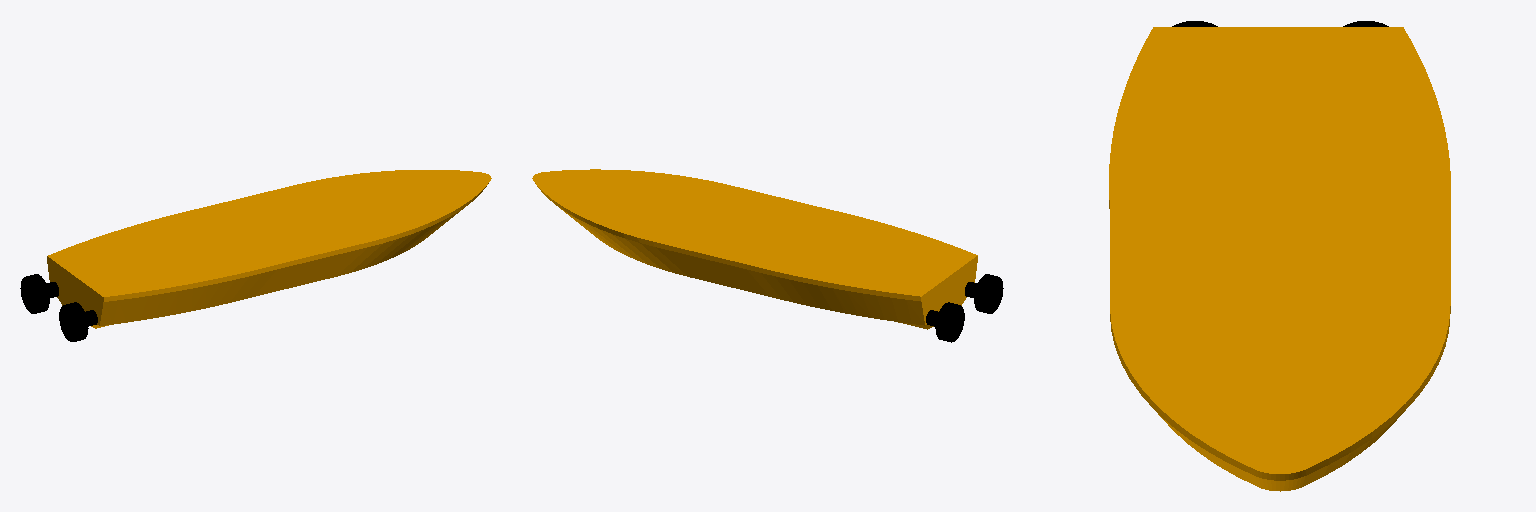
The robot description file, URDF, robot "boat_diff":
<?xml version="1.0" ?>
<!-- =================================================================================== -->
<!-- |    This document was autogenerated by xacro from boat_diff.xacro                | -->
<!-- |    EDITING THIS FILE BY HAND IS NOT RECOMMENDED                                 | -->
<!-- =================================================================================== -->
<robot name="boat_diff" xmlns:xacro="http://www.ros.org/wiki/xacro">
  <link name="base_link">
    <visual>
      <origin rpy="1.57079632679 0 1.57079632679"/>
      <geometry>
        <mesh filename="package://usv_sim/meshes/pt90.stl"/>
      </geometry>
      <material name="blue"/>
    </visual>
    <inertial>
      <origin rpy="0 0 0" xyz="0 0 -0.05"/>
      <mass value="10"/>
      <inertia ixx="0.1" ixy="0.0" ixz="0.0" iyy="1.4" iyz="0.0" izz="1.4"/>
    </inertial>
    <buoyancy>
      <compensation>1.2</compensation>
      <origin xyz="-0.0005 0 0.05"/>
      <limit radius="0.1"/>
      <damping rpy="20 50 50" xyz="20 50 50"/>
    </buoyancy>
  </link>
  <!-- Sensors -->
  <!-- Hokuyo Laser -->
  <joint name="hokuyo_joint" type="fixed">
    <axis xyz="0 1 0"/>
    <origin rpy="0 0 0" xyz="0.6 0 0.1"/>
    <parent link="base_link"/>
    <child link="hokuyo_link"/>
  </joint>
  <link name="hokuyo_link">
    <collision>
      <origin rpy="0 0 0" xyz="0 0 0"/>
      <geometry>
        <box size="0.1 0.1 0.1"/>
      </geometry>
    </collision>
    <visual>
      <origin rpy="0 0 0" xyz="0 0 0"/>
      <geometry>
        <mesh filename="package://usv_sim/meshes/hokuyo.dae"/>
      </geometry>
    </visual>
    <inertial>
      <mass value="1e-5"/>
      <origin rpy="0 0 0" xyz="0 0 0"/>
      <inertia ixx="1e-6" ixy="0" ixz="0" iyy="1e-6" iyz="0" izz="1e-6"/>
    </inertial>
  </link>
  <gazebo reference="hokuyo_link">
    <sensor name="head_hokuyo_sensor" type="gpu_ray">
      <pose>0 0 0 0 0 0</pose>
      <visualize>true</visualize>
      <update_rate>40</update_rate>
      <ray>
        <scan>
          <horizontal>
            <samples>720</samples>
            <resolution>1</resolution>
            <min_angle>-1.570796</min_angle>
            <max_angle>1.570796</max_angle>
          </horizontal>
        </scan>
        <range>
          <min>0.10</min>
          <max>30.0</max>
          <resolution>0.01</resolution>
        </range>
        <noise>
          <type>gaussian</type>
          <!-- Noise parameters based on published spec for Hokuyo laser
        achieving "+-30mm" accuracy at range < 10m.  A mean of 0.0m and
        stddev of 0.01m will put 99.7% of samples within 0.03m of the true
        reading. -->
          <mean>0.0</mean>
          <stddev>0.01</stddev>
        </noise>
      </ray>
      <plugin filename="libgazebo_ros_gpu_laser.so" name="gazebo_ros_head_hokuyo_controller">
        <topicName>scan</topicName>
        <frameName>base_laser</frameName>
      </plugin>
    </sensor>
  </gazebo>
  <!-- Plugin list -->
  <gazebo>
    <plugin filename="libfreefloating_gazebo_control.so" name="freefloating_gazebo_control">
      <switchService>switch</switchService>
      <updateRate>100</updateRate>
      <link>base_link</link>
      <thruster>
        <effort>30</effort>
        <name>fwd_left</name>
      </thruster>
      <thruster>
        <effort>30</effort>
        <name>fwd_right</name>
      </thruster>
    </plugin>
  </gazebo>
  <joint name="fwd_left_link" type="revolute">
    <parent link="base_link"/>
    <child link="fwd_left"/>
    <origin rpy="0 -1.57079632679 0" xyz="-0.52 0.1 0"/>
    <dynamics damping="10.0"/>
    <axis xyz="0 1 0"/>
    <limit effort="30" lower="-1.57079632679" upper="1.57079632679" velocity="5.0"/>
  </joint>
  <link name="fwd_left">
    <buoyancy>
      <compensation>1.0</compensation>
    </buoyancy>
    <visual name="fwd_left_1">
      <geometry>
        <cylinder length="0.1" radius="0.02"/>
      </geometry>
      <material name="black">
        <color rgba="0 0 0 0"/>
      </material>
    </visual>
    <visual name="fwd_left_2">
      <origin xyz="0 0 0.065"/>
      <geometry>
        <cylinder length="0.03" radius="0.05"/>
      </geometry>
      <material name="black">
        <color rgba="0 0 0 0"/>
      </material>
    </visual>
    <inertial>
      <mass value=".1"/>
      <inertia ixx=".1" ixy="0.0" ixz="0.0" iyy=".1" iyz="0.0" izz=".1"/>
    </inertial>
  </link>
  <gazebo reference="fwd_left">
    <material>Gazebo/Black</material>
  </gazebo>
  <joint name="fwd_right_link" type="revolute">
    <parent link="base_link"/>
    <child link="fwd_right"/>
    <origin rpy="0 -1.57079632679 0" xyz="-0.52 -0.1 0"/>
    <dynamics damping="10.0"/>
    <axis xyz="0 1 0"/>
    <limit effort="30" lower="-1.57079632679" upper="1.57079632679" velocity="5.0"/>
  </joint>
  <link name="fwd_right">
    <buoyancy>
      <compensation>1.0</compensation>
    </buoyancy>
    <visual name="fwd_right_1">
      <geometry>
        <cylinder length="0.1" radius="0.02"/>
      </geometry>
      <material name="black">
        <color rgba="0 0 0 0"/>
      </material>
    </visual>
    <visual name="fwd_right_2">
      <origin xyz="0 0 0.065"/>
      <geometry>
        <cylinder length="0.03" radius="0.05"/>
      </geometry>
      <material name="black">
        <color rgba="0 0 0 0"/>
      </material>
    </visual>
    <inertial>
      <mass value=".1"/>
      <inertia ixx=".1" ixy="0.0" ixz="0.0" iyy=".1" iyz="0.0" izz=".1"/>
    </inertial>
  </link>
  <gazebo reference="fwd_right">
    <material>Gazebo/Black</material>
  </gazebo>
</robot>

--- Facts derived from the render (not from the file) ---
Views: 3 orthographic renders of the robot side by side, from view 1: azimuth 30°, elevation 25°; view 2: azimuth 150°, elevation 25°; view 3: azimuth 270°, elevation 25°.
Model boat_diff with 4 links and 3 joints (2 revolute, 1 fixed), rooted at base_link, posed every joint at zero.
Links seen in each view (by area): view 1: base_link, fwd_left, fwd_right; view 2: base_link, fwd_left, fwd_right; view 3: base_link.
Boxes of the visible links, box(x1,y1,x2,y2) form: base_link: box(47, 170, 491, 328); fwd_left: box(20, 274, 58, 313); fwd_right: box(59, 302, 97, 341); base_link: box(532, 169, 977, 329); fwd_left: box(926, 302, 964, 342); fwd_right: box(965, 274, 1003, 313); base_link: box(1109, 27, 1450, 491).
Size in the robot's own frame: 1.31 by 0.4002 by 0.1644 metres.
Meshes: 2 distinct files referenced, 1 mesh visuals loaded (1 binary STL); not drawn: 1 (reference not matched to a file when rendering).